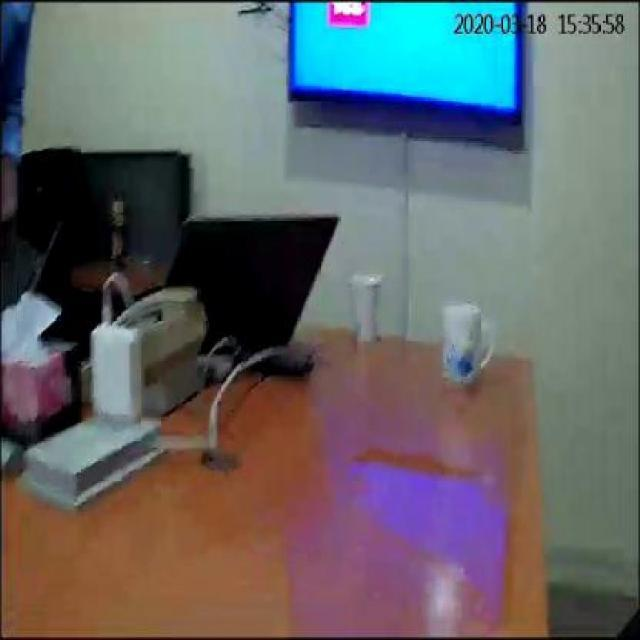spill: (353, 444, 522, 628)
